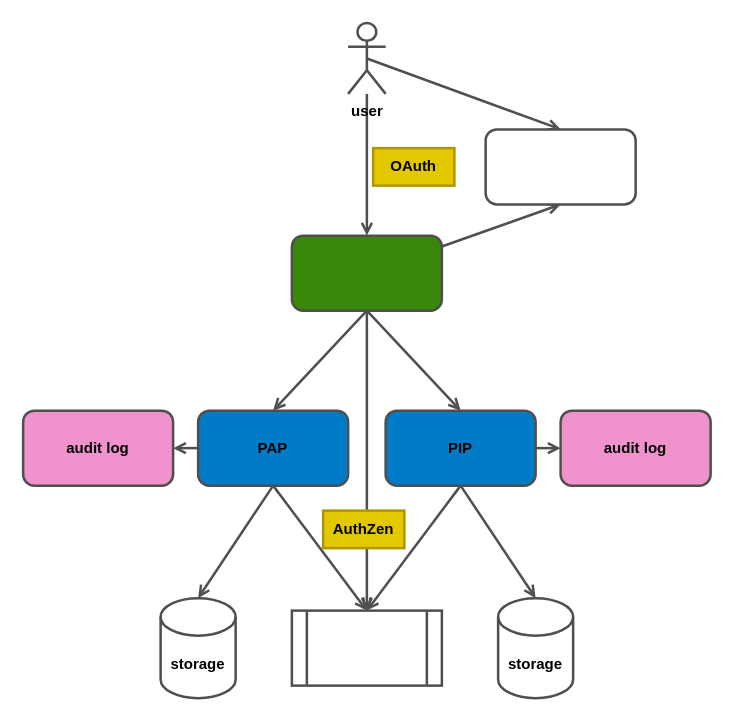
This 733x720 diagram has some shape labels left out. The shapes that lost their labels are listed below. From the top down, each one's box as (x1, y1, x2, y2) in pixels, then its label:
(484, 128, 636, 205): IdP
(290, 234, 442, 311): front-end
(290, 609, 442, 686): EAM
